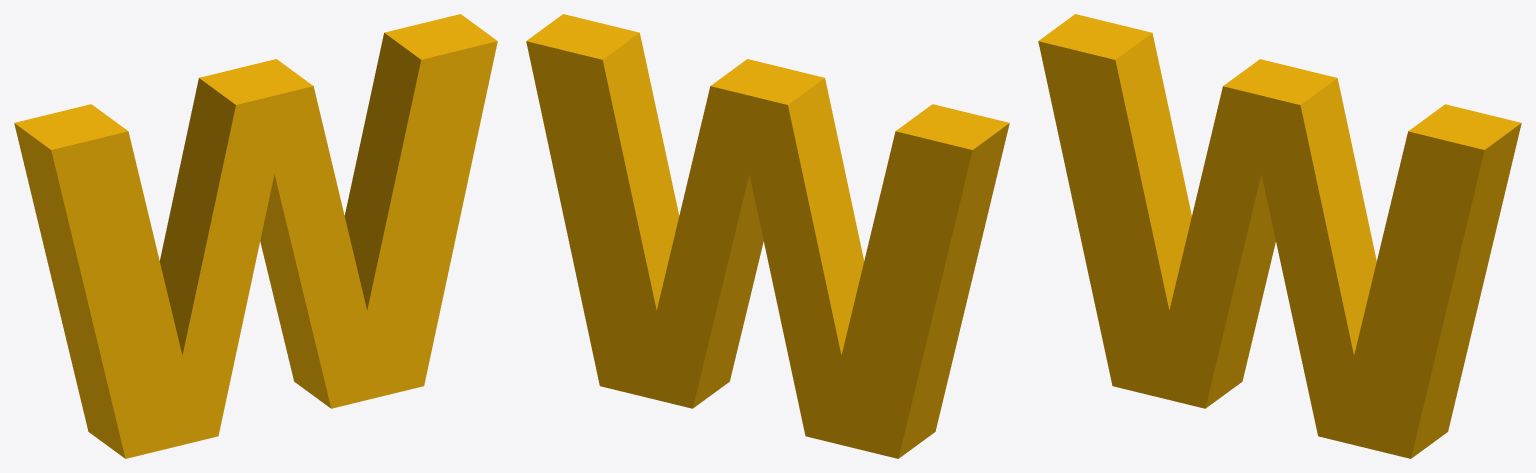
Rendered from huruf_besar_w.glb.
The picture shows the model from 3 angles, left to right: view 1: azimuth 30°, elevation 25°; view 2: azimuth 150°, elevation 25°; view 3: azimuth 330°, elevation 25°; orthographic projection.
Visible parts, largest first — view 1: geometry_0; view 2: geometry_0; view 3: geometry_0.
Part boxes in pixels (x1,y1,x2,y2): geometry_0: [14, 14, 497, 458]; geometry_0: [526, 14, 1009, 458]; geometry_0: [1038, 14, 1521, 458].
Size of the model in its own units: 10.42 by 7.29 by 1.5.
